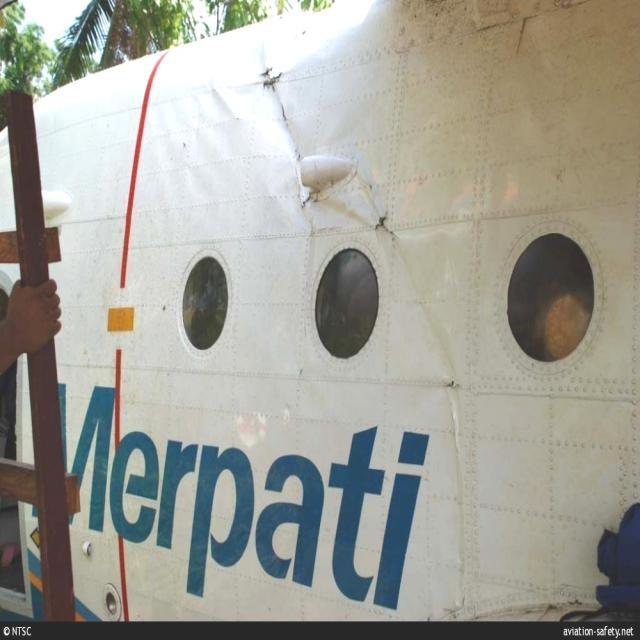crack: (261, 66, 293, 123), (372, 208, 407, 245)
